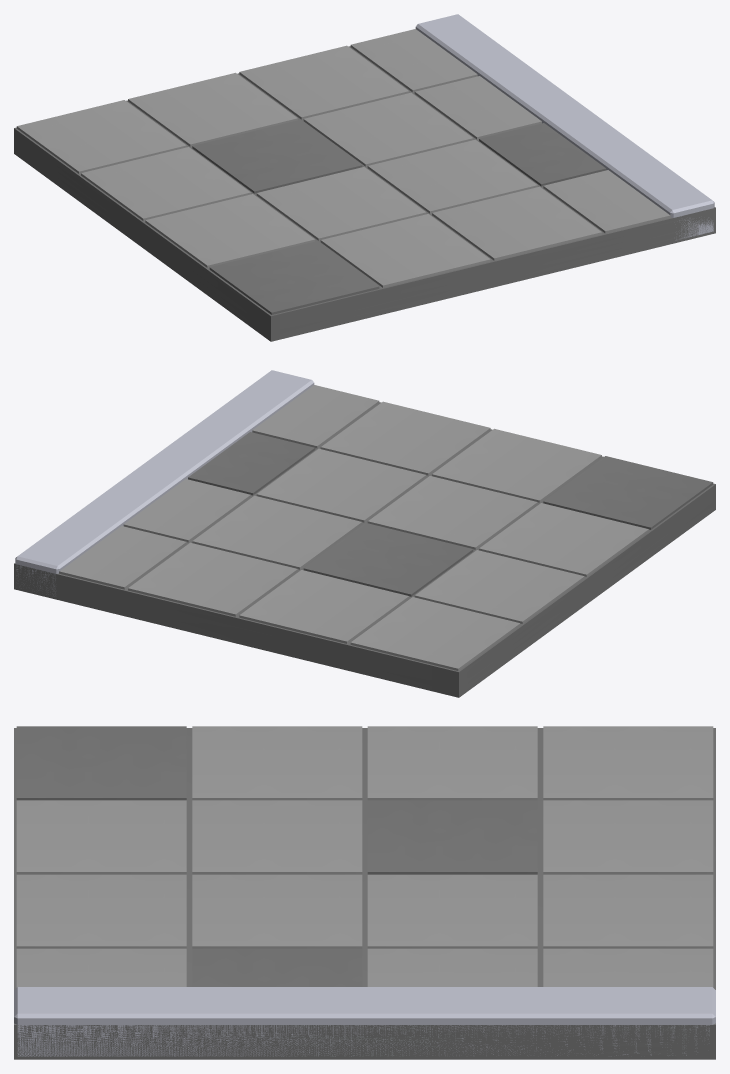
File: SM_Build_Boden_Gehweg.fbx
3 renders of one model, top to bottom at view 1: azimuth 30°, elevation 25°; view 2: azimuth 150°, elevation 25°; view 3: azimuth 270°, elevation 25°, orthographic. The views are drawn at different scales.
Parts seen in each view (by area): view 1: Boden Gehweg; view 2: Boden Gehweg; view 3: Boden Gehweg.
Boxes of the visible parts, <box> form: Boden Gehweg: <box>14,14,715,341</box>; Boden Gehweg: <box>14,370,715,697</box>; Boden Gehweg: <box>14,726,715,1059</box>.
Size of the model in its own units: 2 by 0.14 by 2.
